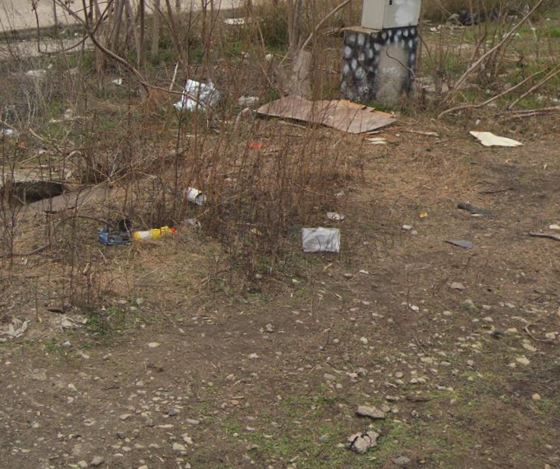trash: (463, 114, 534, 155), (164, 70, 218, 119), (128, 213, 187, 252), (295, 220, 346, 257), (178, 176, 211, 201), (97, 224, 126, 245), (247, 140, 266, 151)
